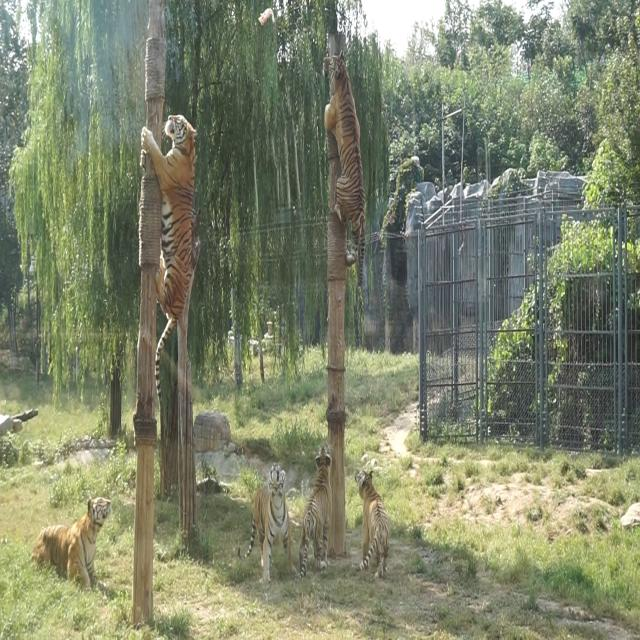Tiger: (136, 102, 196, 434), (317, 49, 373, 285), (242, 460, 305, 592), (29, 494, 113, 592), (299, 444, 335, 583), (354, 460, 391, 578)
